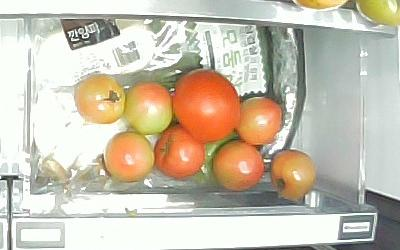tomato: (174, 69, 240, 143), (212, 139, 265, 191), (156, 123, 204, 180), (104, 129, 154, 183), (270, 149, 319, 202), (235, 97, 284, 147), (74, 75, 125, 123), (125, 83, 173, 134)
